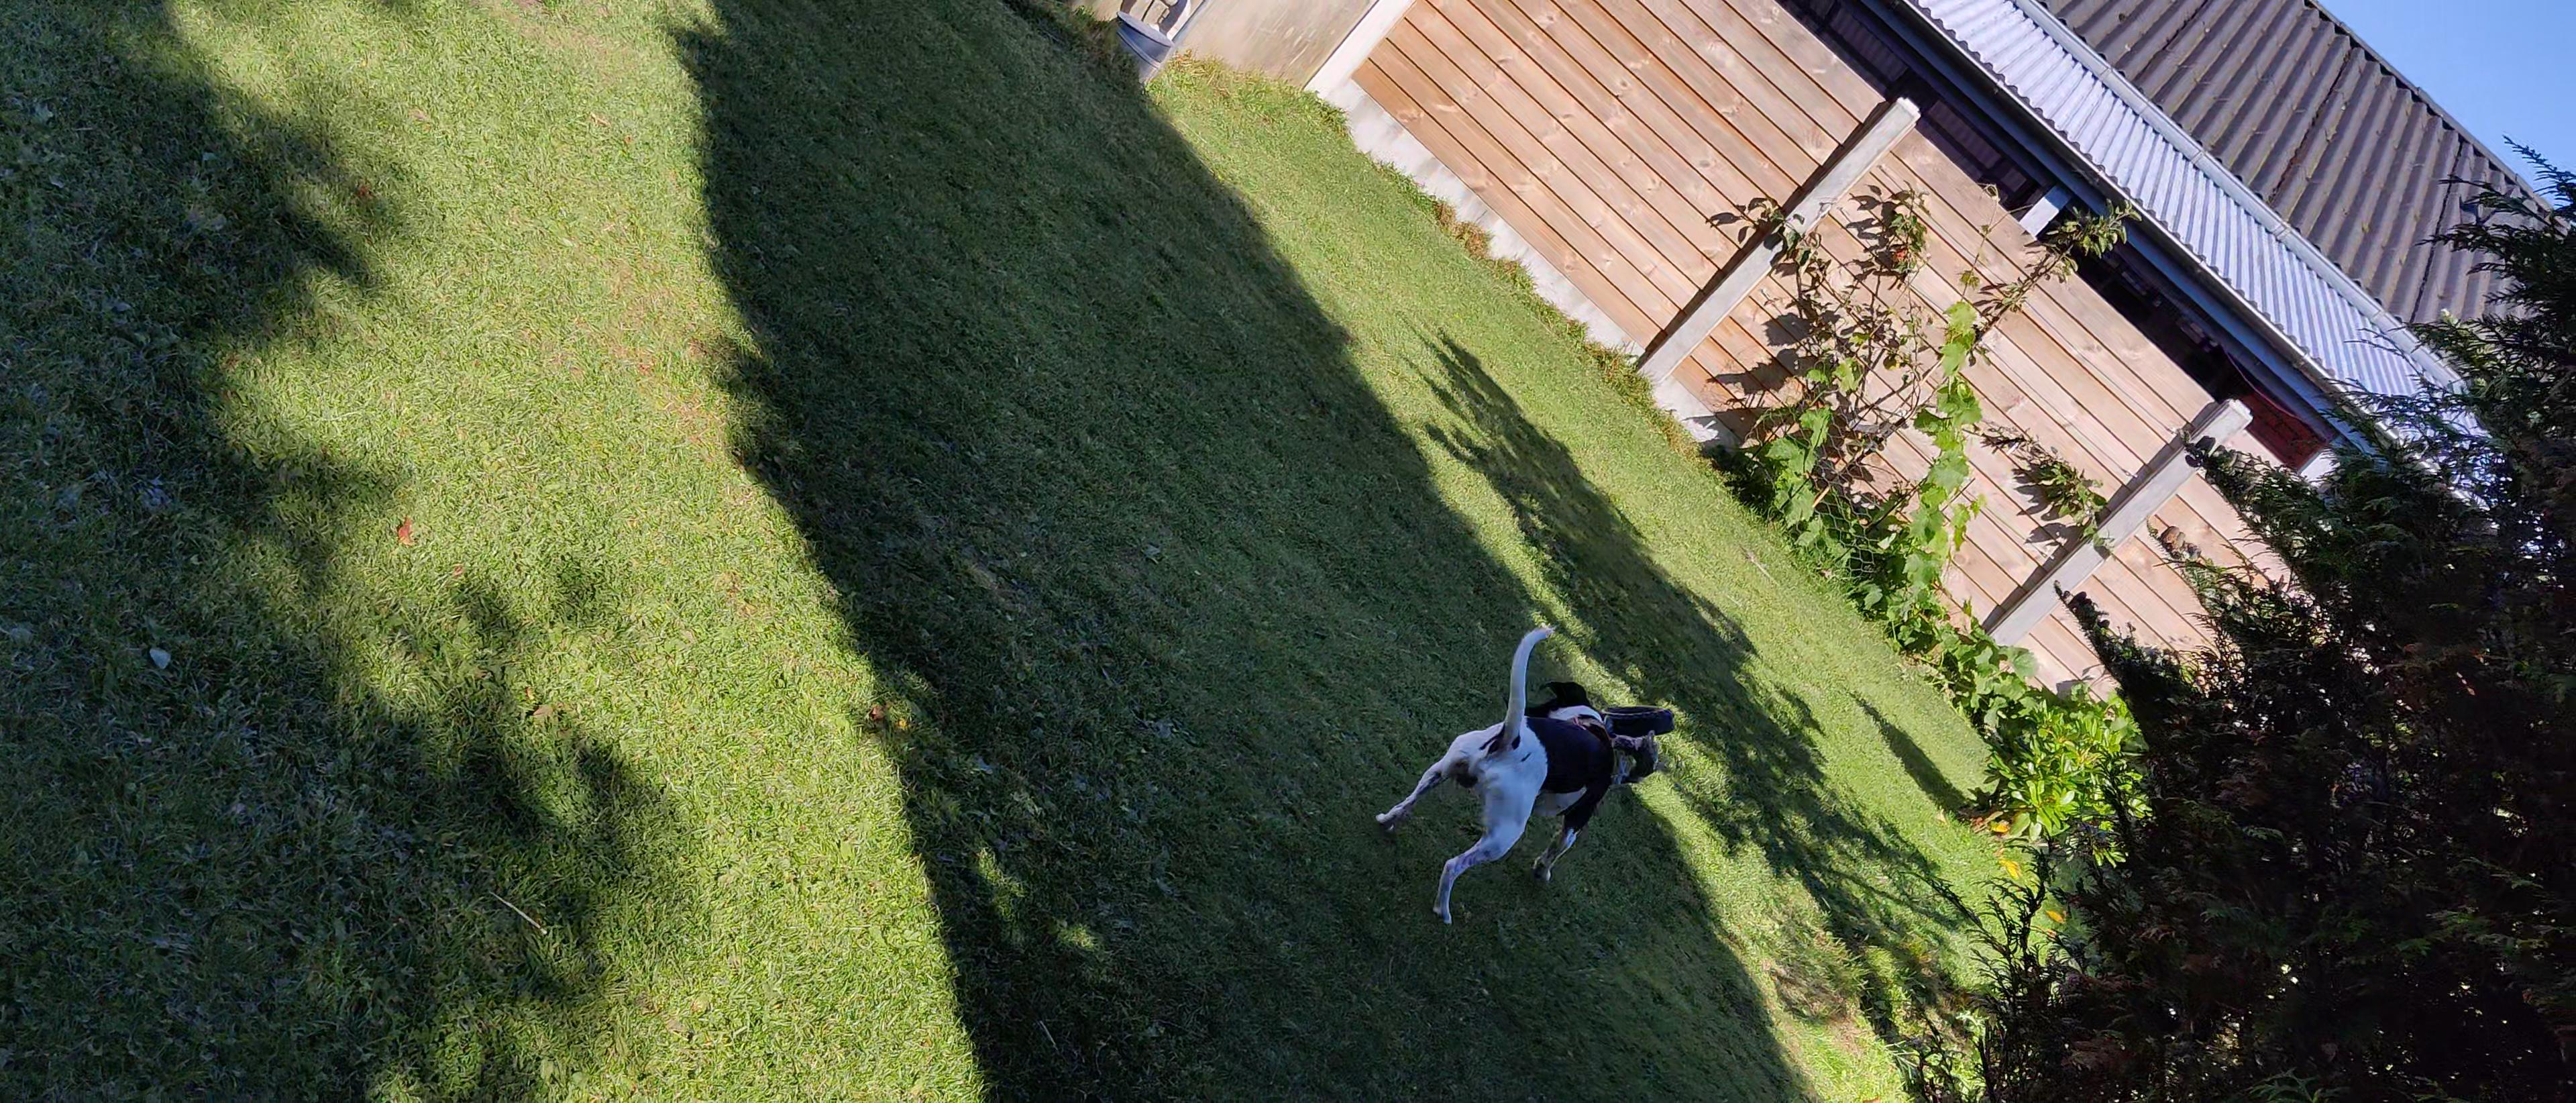Dog: (1362, 602, 1656, 942)
